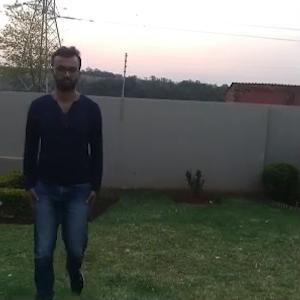follow: (22, 42, 101, 297)
